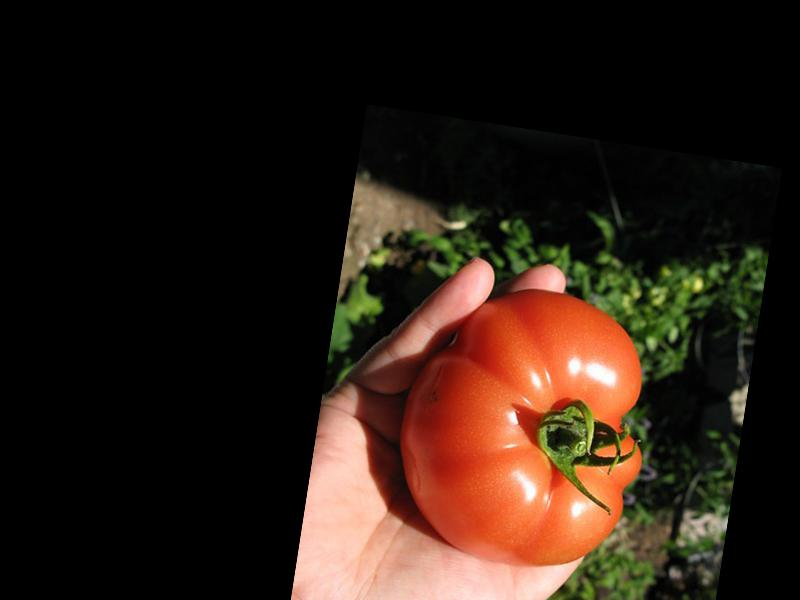Tomato: (387, 272, 665, 579)
